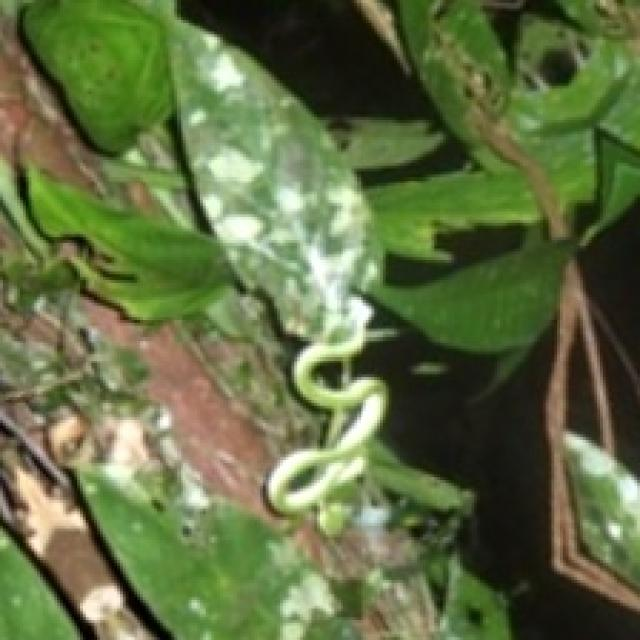north ph temple pitviper: (266, 326, 386, 511)
